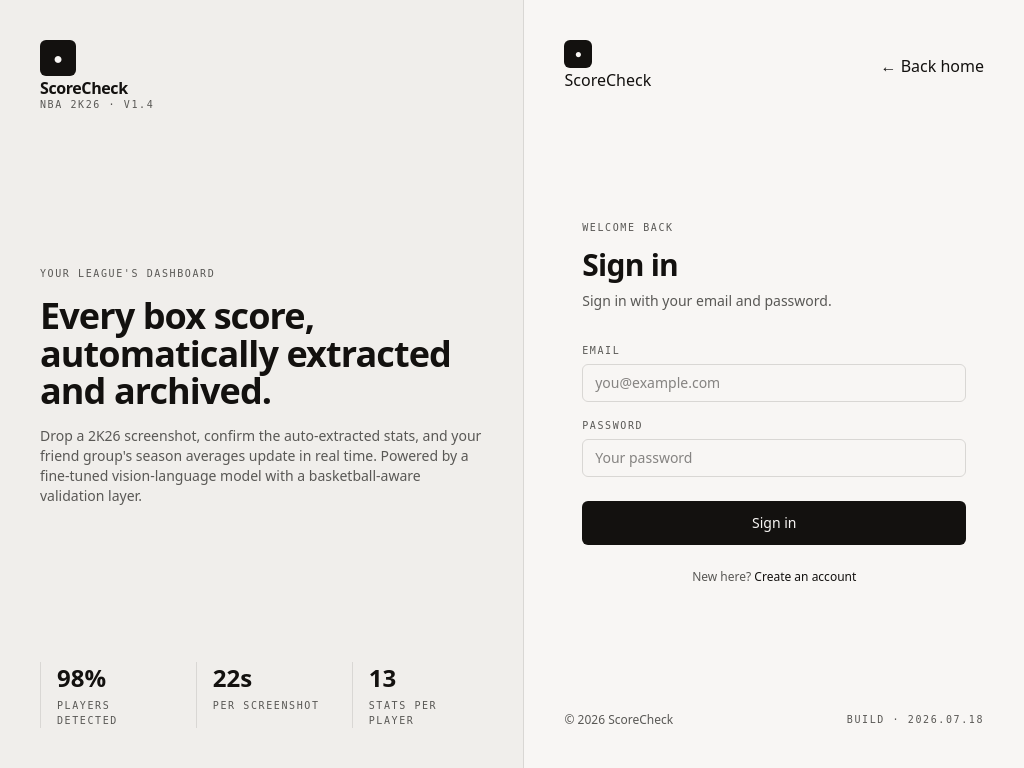
Test case: switching modes › goes to signup and back
The width and height of the screenshot is (1024, 768).
Click the button "Create an account": (805,576) [754,568,856,584]
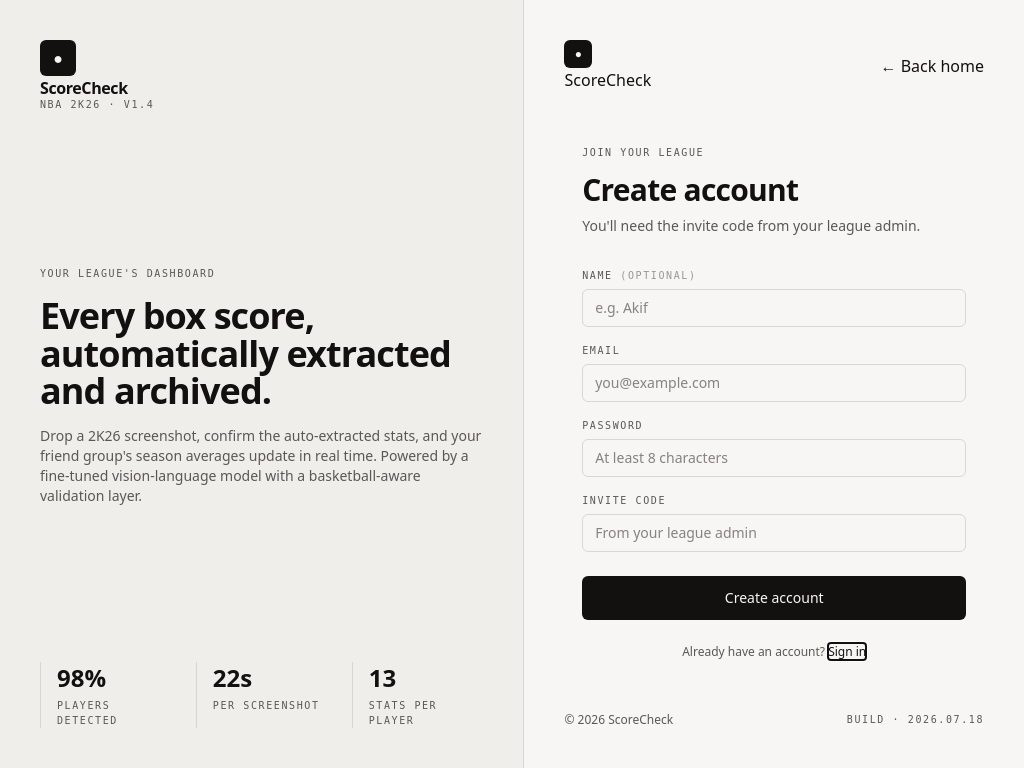
expect the heading "Create account" is shown: met, box [582,168,798,210]
Click the button "Sign in": (847,652) [828,644,866,660]
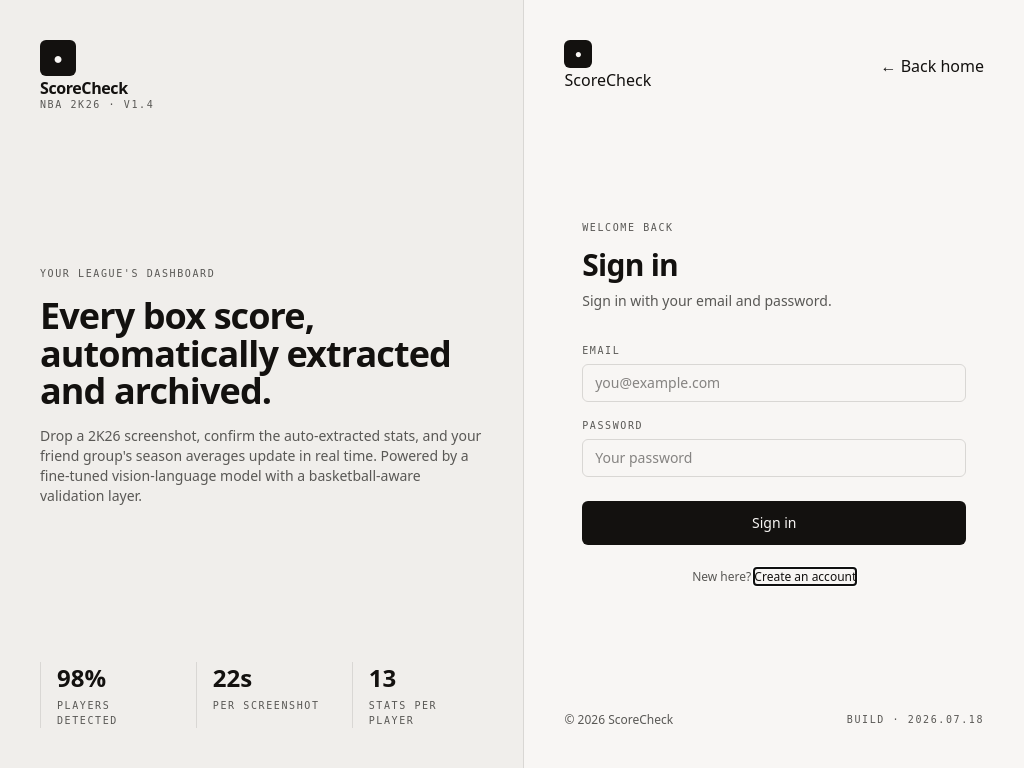
expect the heading "Sign in" is shown: met, box [582,244,678,284]
